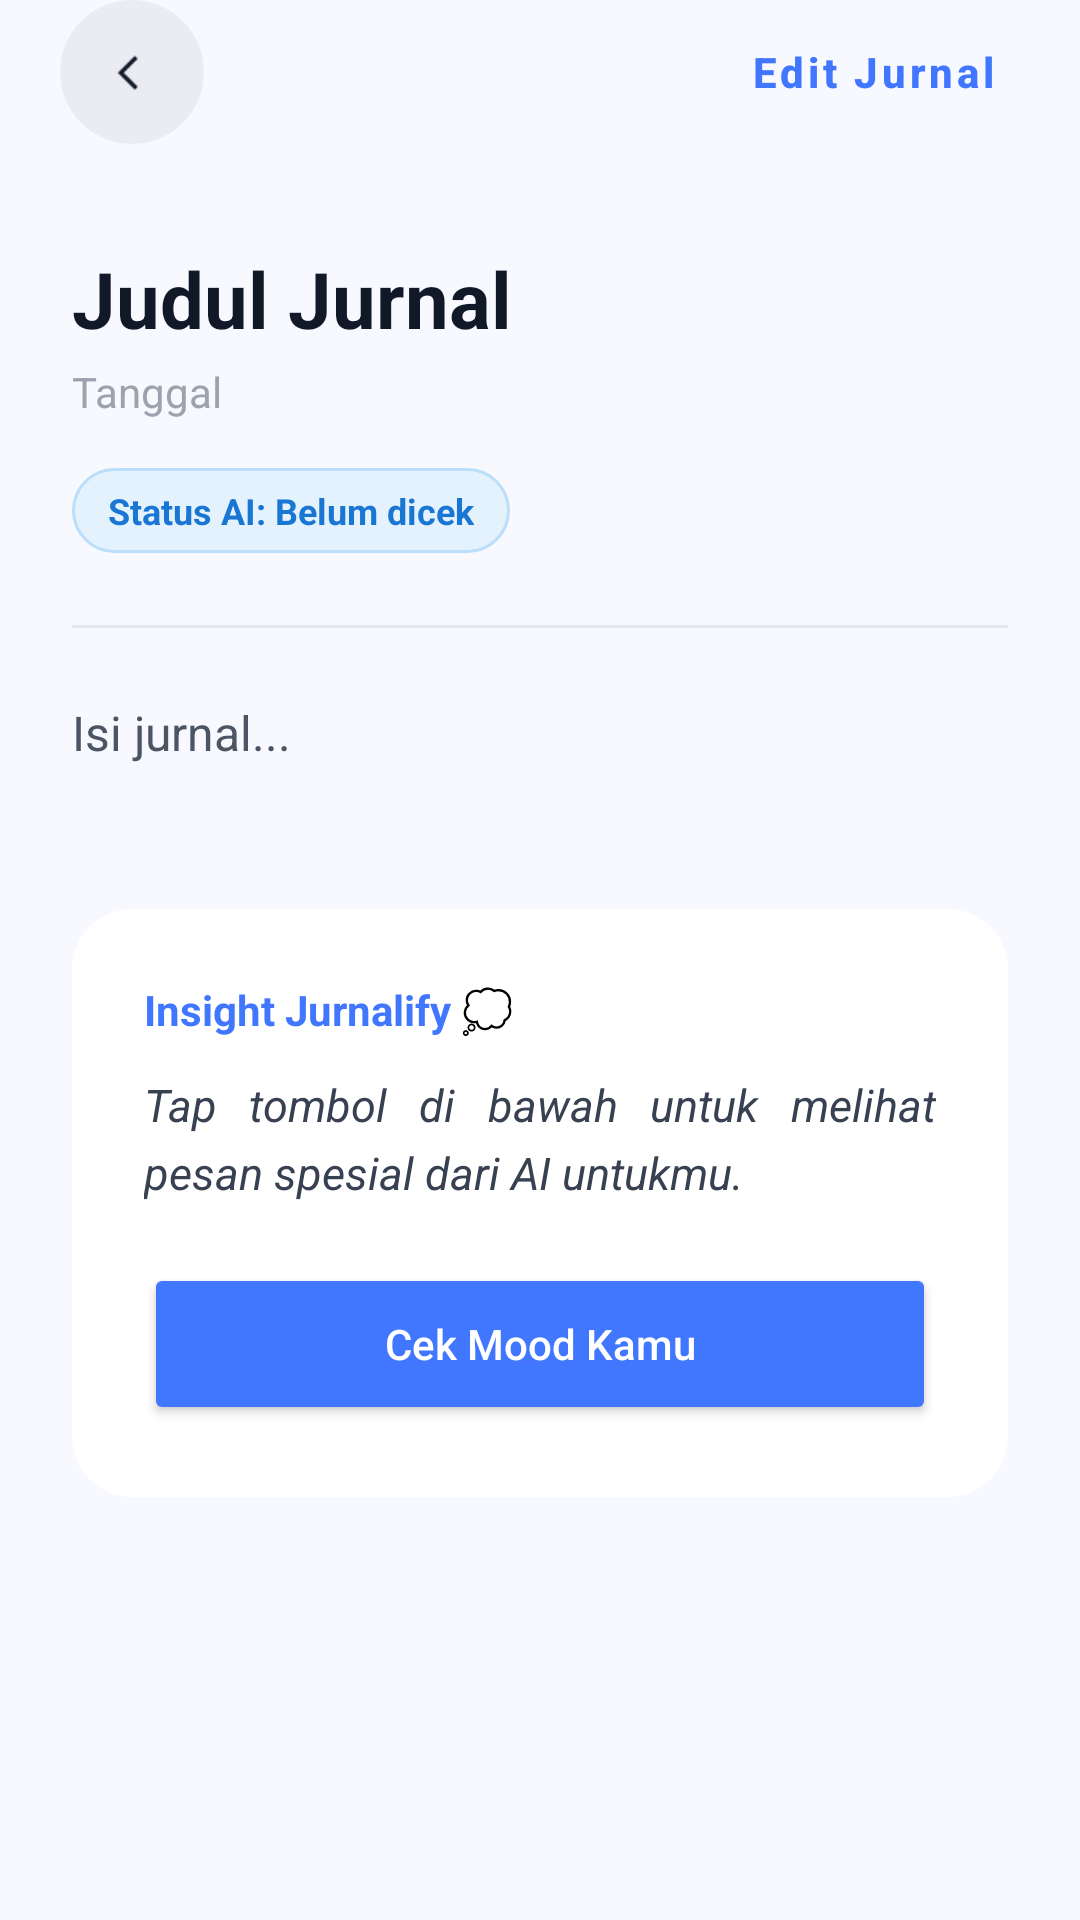

Icon click points for this 1080w x 1920h phone screenshot, format point (x, y):
Kembali: point (132, 72)
